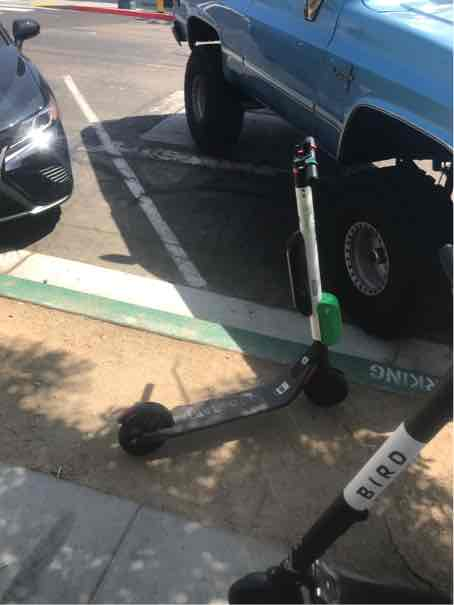scooter: (108, 122, 357, 455)
